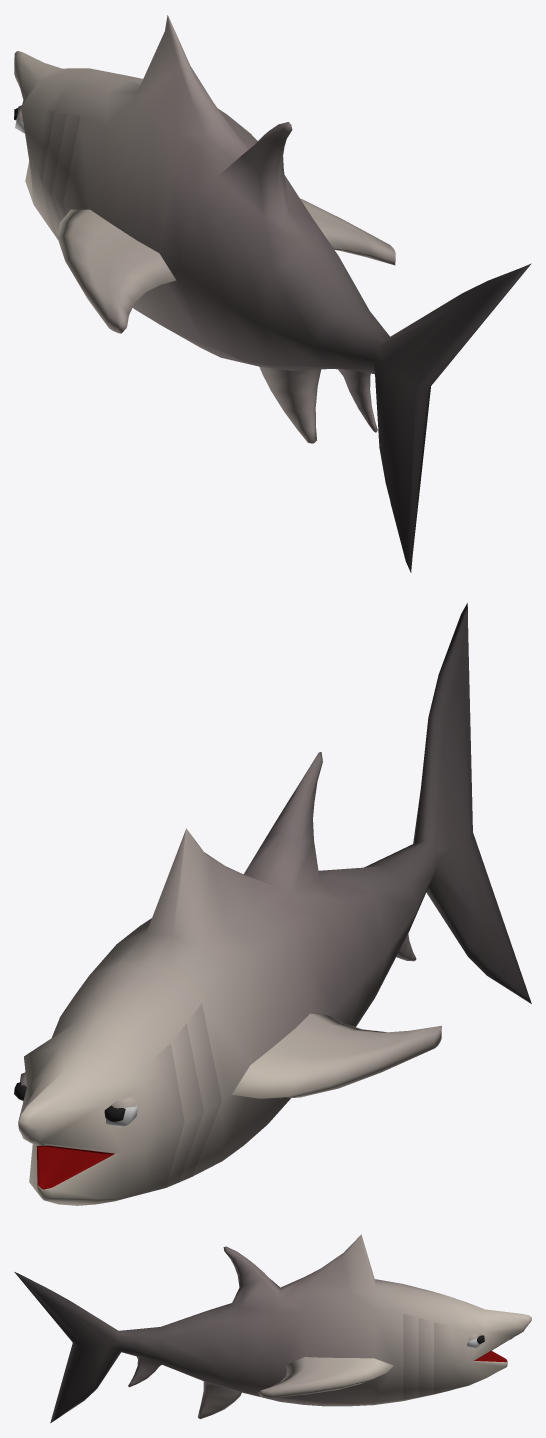
Rendered from Baby_Shark_01.fbx.
3 renders of one model, top to bottom at view 1: azimuth 30°, elevation 25°; view 2: azimuth 150°, elevation 25°; view 3: azimuth 270°, elevation 25°, orthographic. The views are drawn at different scales.
Visible parts, largest first — view 1: Baby_Shark_01; view 2: Baby_Shark_01; view 3: Baby_Shark_01.
Part boxes in pixels (x1,y1,x2,y2): Baby_Shark_01: [14, 15, 531, 572]; Baby_Shark_01: [14, 603, 531, 1205]; Baby_Shark_01: [14, 1234, 531, 1423].
Size of the model in its own units: 134 by 158 by 375.
